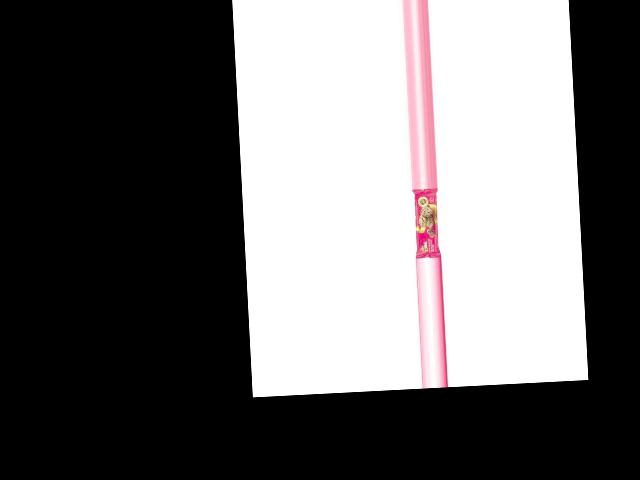chocolate: (413, 189, 443, 259)
